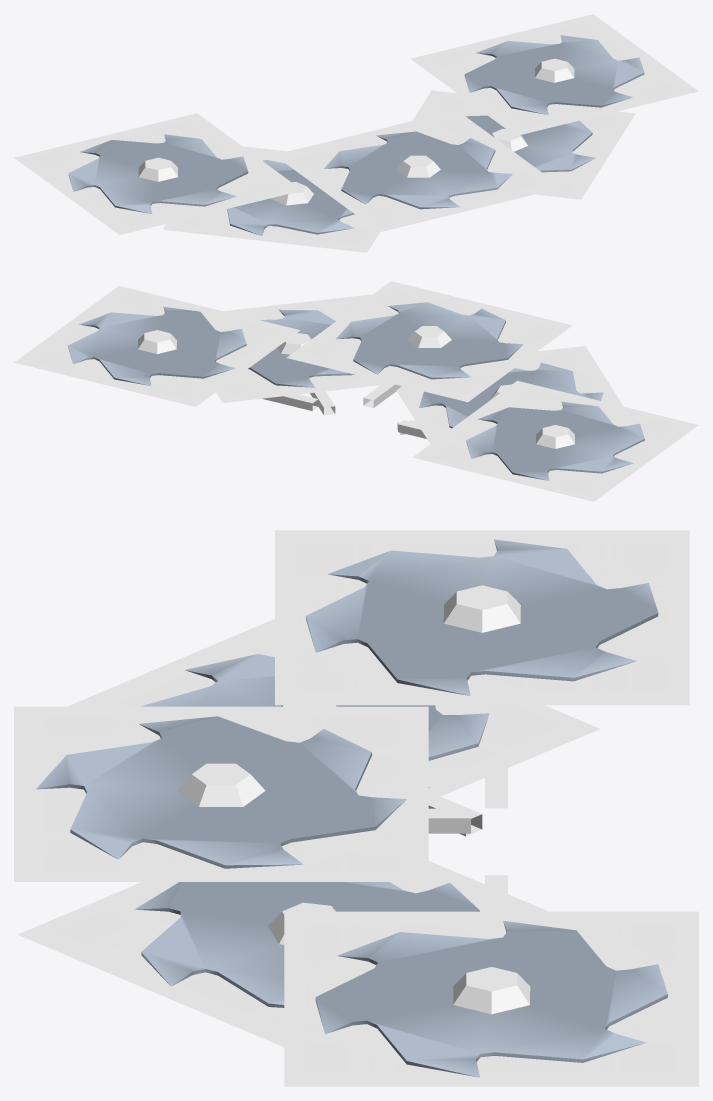
The model's file is saw 9.FBX.
3 renders of one model, top to bottom at view 1: azimuth 30°, elevation 25°; view 2: azimuth 150°, elevation 25°; view 3: azimuth 270°, elevation 25°, orthographic. The views are drawn at different scales.
Parts seen in each view (by area): view 1: Saw_Wind_FX_1, Saw_Wind_FX_4, Saw_Wind_FX_3, Saw_6_9, Saw_6_3, Saw_6_7, Saw_Wind_FX_2, Saw_6_1, Saw_Wind_FX, Saw_6_5, Saw_6_cell_1, Saw_6_cell_3 (+3 smaller); view 2: Saw_Wind_FX_3, Saw_Wind_FX_4, Saw_Wind_FX_1, Saw_6_3, Saw_6_7, Saw_6_9, Saw_Wind_FX_2, Saw_Wind_FX, Saw_6_5, Saw_6_1, Saw_6_cell_1, Saw_6_cell_3 (+5 smaller); view 3: Saw_Wind_FX_3, Saw_Wind_FX_4, Saw_Wind_FX_1, Saw_6_9, Saw_6_3, Saw_6_7, Saw_6_5, Saw_Wind_FX_2, Saw_Wind_FX, Saw_6_1, Saw_6_cell_1, Saw_6_cell_3 (+3 smaller).
Boxes of the visible parts, box(x1,y1,x2,y2) form: Saw_Wind_FX_1: box(410, 14, 698, 135); Saw_Wind_FX_4: box(274, 110, 562, 232); Saw_Wind_FX_3: box(14, 113, 302, 234); Saw_6_9: box(324, 131, 512, 209); Saw_6_3: box(464, 35, 644, 114); Saw_6_7: box(68, 134, 248, 213); Saw_Wind_FX_2: box(412, 90, 635, 199); Saw_6_1: box(227, 160, 354, 235); Saw_Wind_FX: box(163, 146, 379, 252); Saw_6_5: box(466, 115, 595, 172); Saw_6_cell_1: box(535, 58, 574, 82); Saw_6_cell_3: box(138, 157, 177, 181); Saw_Wind_FX_3: box(412, 380, 698, 501); Saw_Wind_FX_4: box(286, 281, 572, 402); Saw_Wind_FX_1: box(14, 286, 300, 406); Saw_6_3: box(68, 306, 246, 385); Saw_6_7: box(466, 401, 644, 480); Saw_6_9: box(336, 302, 522, 379); Saw_Wind_FX_2: box(216, 294, 384, 402); Saw_Wind_FX: box(396, 346, 623, 443); Saw_6_5: box(248, 309, 354, 387); Saw_6_1: box(419, 362, 603, 428); Saw_6_cell_1: box(138, 330, 176, 353); Saw_6_cell_3: box(536, 425, 574, 448); Saw_Wind_FX_3: box(275, 530, 689, 705); Saw_Wind_FX_4: box(14, 706, 428, 881); Saw_Wind_FX_1: box(284, 911, 698, 1086); Saw_6_9: box(36, 716, 406, 868); Saw_6_3: box(315, 920, 667, 1077); Saw_6_7: box(306, 539, 658, 695); Saw_6_5: box(134, 882, 479, 1007); Saw_Wind_FX_2: box(18, 861, 548, 1046); Saw_Wind_FX: box(67, 619, 599, 801); Saw_6_1: box(140, 654, 489, 787); Saw_6_cell_1: box(453, 967, 530, 1014); Saw_6_cell_3: box(443, 585, 520, 632).
Size of the model in its own units: 696 by 52.93 by 362.
